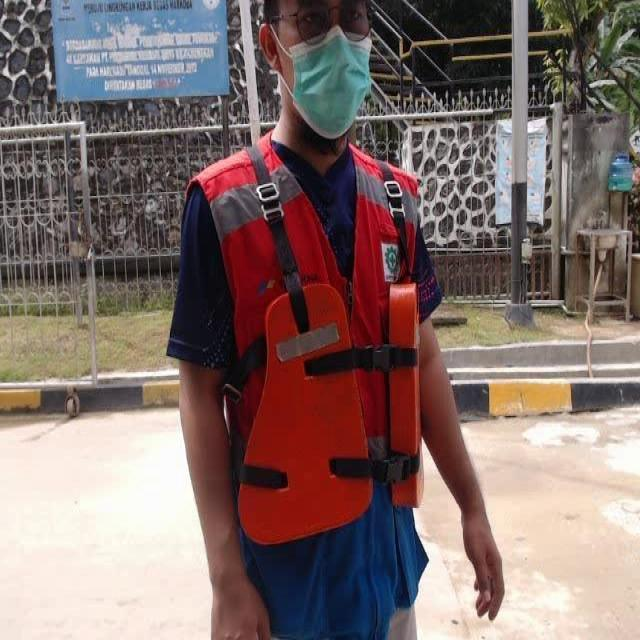Vest: (226, 276, 441, 537)
